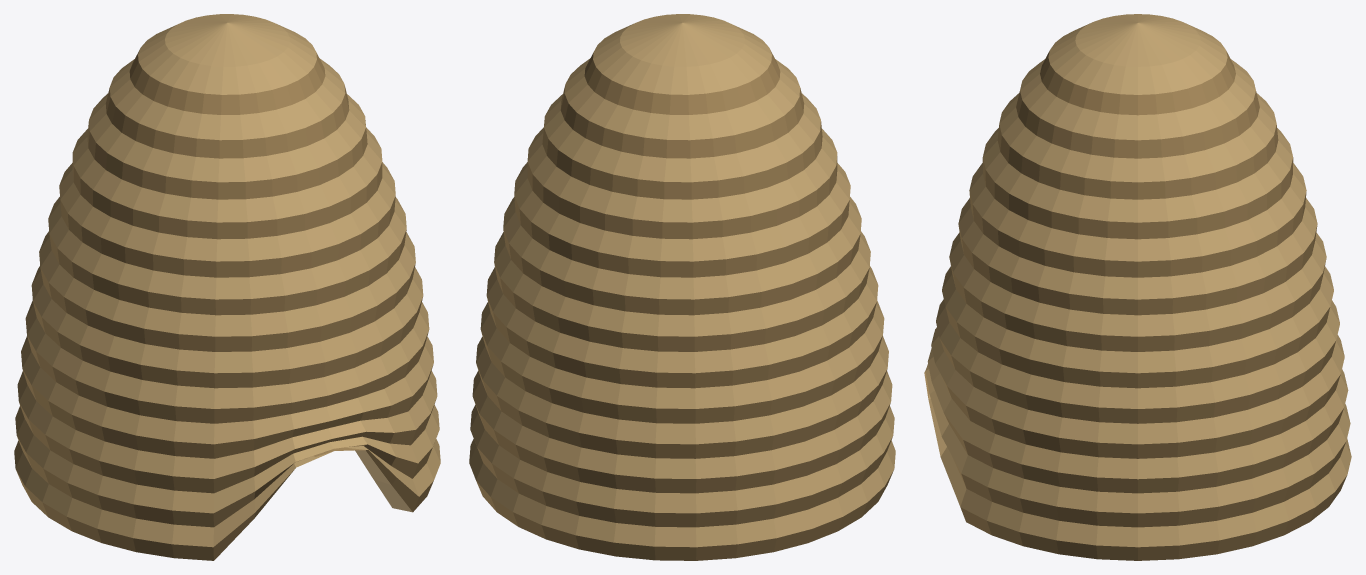
The picture shows the model from 3 angles, left to right: view 1: azimuth 30°, elevation 25°; view 2: azimuth 150°, elevation 25°; view 3: azimuth 270°, elevation 25°; orthographic projection.
Visible parts, largest first — view 1: WholeClosedCrownHollowDomedSkepWithLowArchedEntrance; view 2: WholeClosedCrownHollowDomedSkepWithLowArchedEntrance; view 3: WholeClosedCrownHollowDomedSkepWithLowArchedEntrance.
Part boxes in pixels (box(x1,y1,x2,y2)): WholeClosedCrownHollowDomedSkepWithLowArchedEntrance: box(14, 14, 440, 560); WholeClosedCrownHollowDomedSkepWithLowArchedEntrance: box(469, 14, 895, 560); WholeClosedCrownHollowDomedSkepWithLowArchedEntrance: box(924, 14, 1351, 560).
Bounding box in the file's own units: 1.21 × 1.4 × 1.21.
